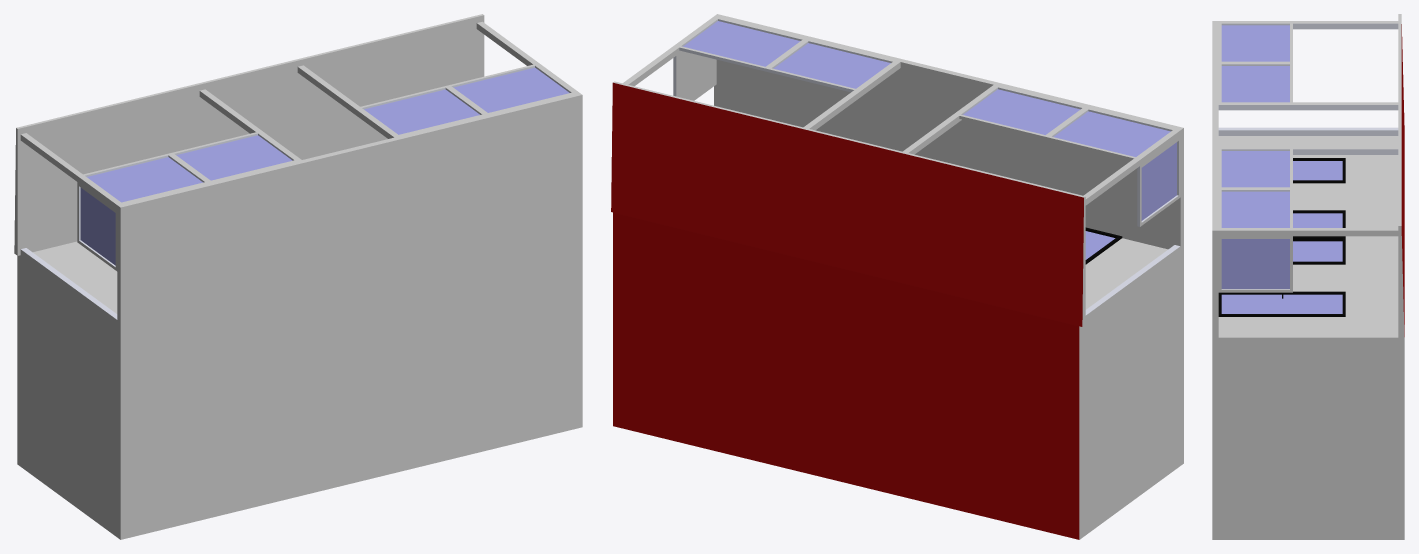
The model's file is mobile_home_comfort_polidor.glb.
The picture shows the model from 3 angles, left to right: view 1: azimuth 30°, elevation 25°; view 2: azimuth 150°, elevation 25°; view 3: azimuth 270°, elevation 25°; orthographic projection. The views are drawn at different scales.
Visible parts, largest first — view 1: 3DGeom-149, 3DGeom-151, 3DGeom-147; view 2: 3DGeom-150, 3DGeom-149, 3DGeom-151, 3DGeom-147; view 3: 3DGeom-149, 3DGeom-151, 3DGeom-147, 3DGeom-148, 3DGeom-150.
Part boxes in pixels (<box>): 3DGeom-149: <box>14,14,582,539</box>; 3DGeom-151: <box>80,67,569,265</box>; 3DGeom-147: <box>21,66,571,319</box>; 3DGeom-150: <box>611,82,1083,539</box>; 3DGeom-149: <box>613,14,1183,539</box>; 3DGeom-151: <box>683,21,1176,259</box>; 3DGeom-147: <box>673,19,1179,315</box>; 3DGeom-149: <box>1212,14,1404,539</box>; 3DGeom-151: <box>1221,25,1342,313</box>; 3DGeom-147: <box>1218,23,1398,289</box>; 3DGeom-148: <box>1218,158,1345,316</box>; 3DGeom-150: <box>1401,24,1404,336</box>.
Bounding box in the file's own units: 0.00808 × 0.00563 × 0.0031.
